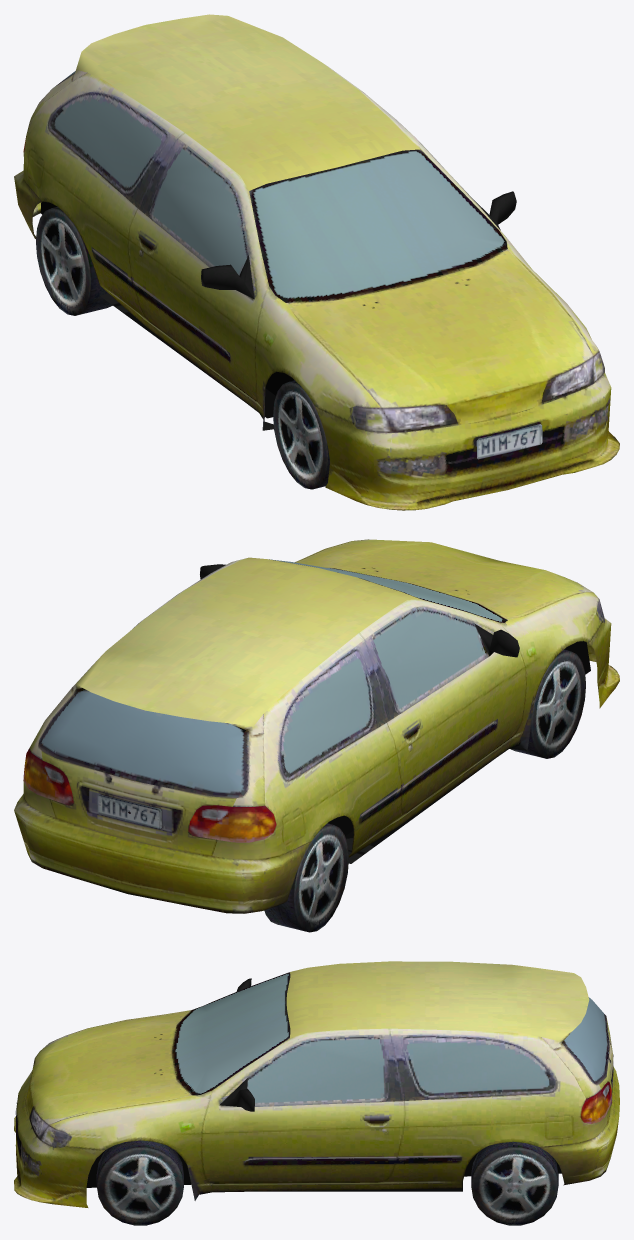
The model's file is VH_Civic.obj.
3 views of the same model, one above another, from view 1: azimuth 30°, elevation 25°; view 2: azimuth 150°, elevation 25°; view 3: azimuth 270°, elevation 25° (orthographic). The views are drawn at different scales.
Parts seen in each view (by area): view 1: VH_Civic; view 2: VH_Civic; view 3: VH_Civic.
Part boxes in pixels (bbox=[...]): VH_Civic: bbox=[14, 14, 619, 510]; VH_Civic: bbox=[14, 539, 619, 932]; VH_Civic: bbox=[14, 961, 619, 1225].
Bounding box in the file's own units: 0.7125 × 0.4948 × 1.5.
Materials: 1 (1 with a texture image).
